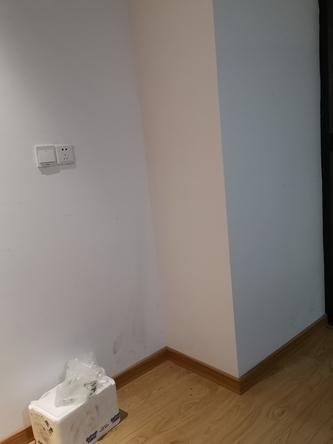switch: (34, 144, 56, 166)
